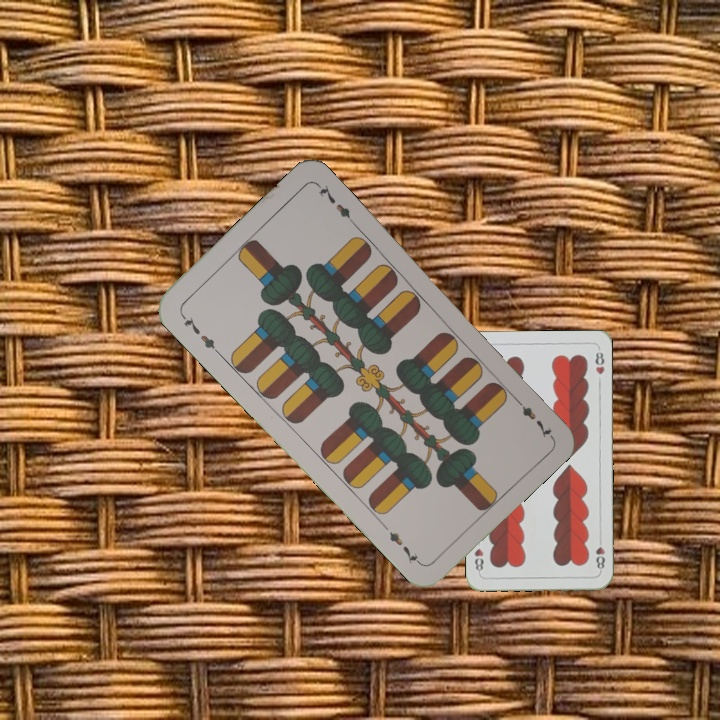E7: (509, 392, 555, 441), (176, 309, 222, 356)
H8: (592, 534, 608, 574)
